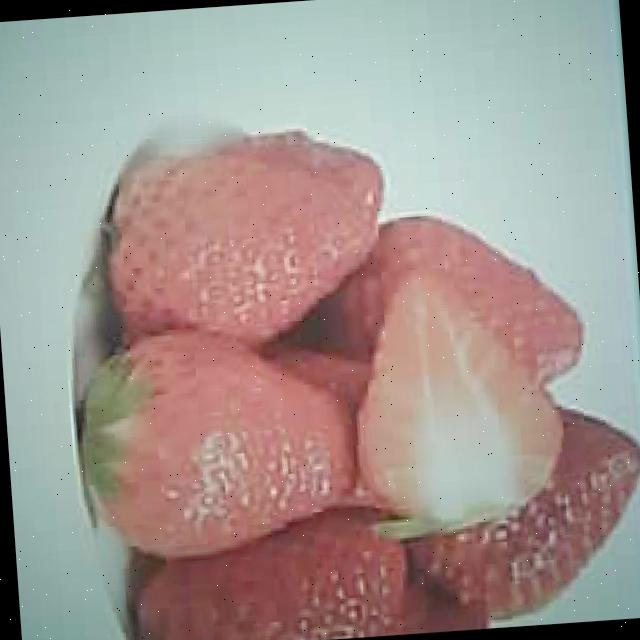strawberry: (77, 337, 360, 564), (92, 156, 372, 354)
